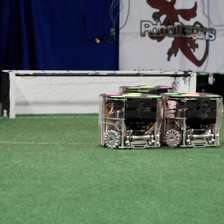goal: (1, 68, 199, 119)
robot: (97, 90, 166, 149), (161, 91, 224, 147)
